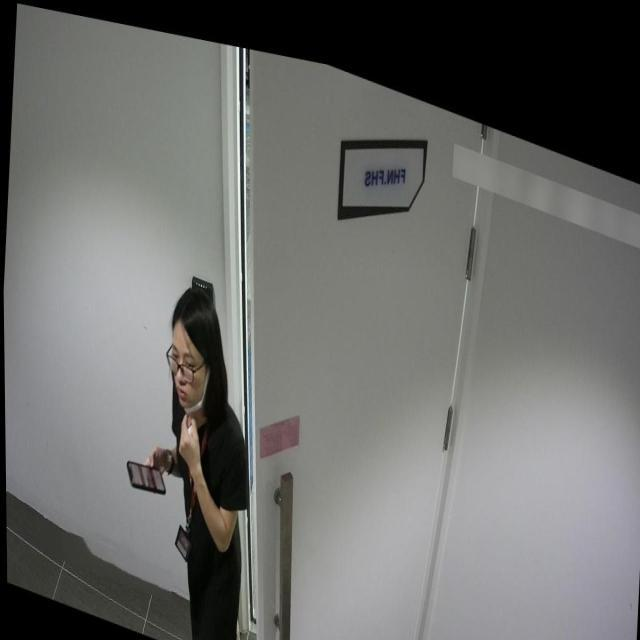hairnet: (167, 332, 212, 414)
